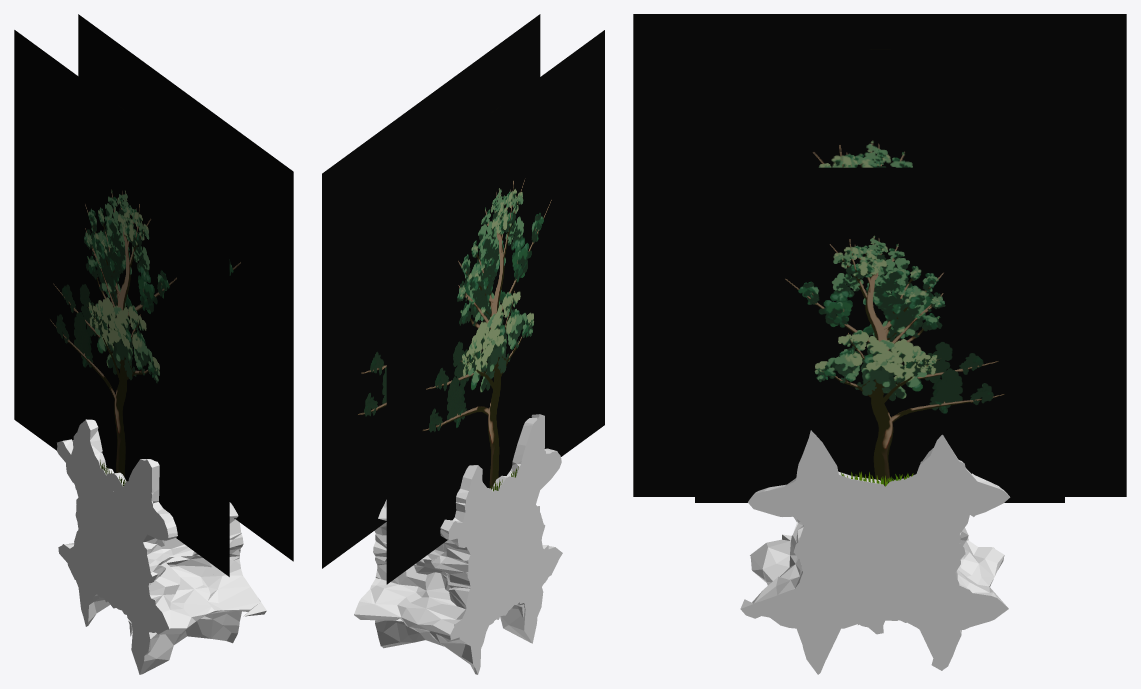
Rendered from palikka.fbx.
3 renders of one model, left to right at view 1: azimuth 30°, elevation 25°; view 2: azimuth 150°, elevation 25°; view 3: azimuth 270°, elevation 25°, orthographic. The views are drawn at different scales.
Parts seen in each view (by area): view 1: Background TreeLarge, ForegroundTreeLarge, TarmonKulmaBottomLeft, Palikka, TarmonKulmaTopLeft, TarmonReunaLeft, TarmonKulmaTopRight, TarmonKulmaBottomRight, TarmonReunaRight; view 2: Background TreeLarge, ForegroundTreeLarge, TarmonKulmaBottomRight, Palikka, TarmonReunaRight, TarmonKulmaTopLeft, TarmonKulmaTopRight, TarmonKulmaBottomLeft, TarmonReunaBottom, TarmonReunaLeft; view 3: ForegroundTreeSmall, ForegroundTreeLarge, Background TreeLarge, Palikka, TarmonKulmaBottomLeft, TarmonKulmaBottomRight, TarmonKulmaTopRight, TarmonKulmaTopLeft, TarmonReunaLeft, TarmonReunaBottom, TarmonReunaRight.
Boxes of the visible parts, left/top/right/bottom form: Background TreeLarge: left=14, top=30, right=229, bottom=576; ForegroundTreeLarge: left=78, top=14, right=293, bottom=561; TarmonKulmaBottomLeft: left=112, top=558, right=266, bottom=674; Palikka: left=86, top=474, right=175, bottom=604; TarmonKulmaTopLeft: left=104, top=459, right=238, bottom=568; TarmonReunaLeft: left=129, top=508, right=243, bottom=608; TarmonKulmaTopRight: left=56, top=419, right=113, bottom=529; TarmonKulmaBottomRight: left=58, top=515, right=116, bottom=626; TarmonReunaRight: left=75, top=469, right=98, bottom=569; Background TreeLarge: left=386, top=30, right=604, bottom=584; ForegroundTreeLarge: left=322, top=14, right=540, bottom=568; TarmonKulmaBottomRight: left=354, top=558, right=502, bottom=674; Palikka: left=478, top=477, right=532, bottom=614; TarmonReunaRight: left=373, top=515, right=490, bottom=616; TarmonKulmaTopLeft: left=492, top=414, right=561, bottom=540; TarmonKulmaTopRight: left=374, top=465, right=506, bottom=572; TarmonKulmaBottomLeft: left=500, top=528, right=562, bottom=643; TarmonReunaBottom: left=480, top=575, right=531, bottom=621; TarmonReunaLeft: left=523, top=476, right=545, bottom=574; ForegroundTreeSmall: left=695, top=167, right=1064, bottom=502; ForegroundTreeLarge: left=633, top=49, right=1126, bottom=496; Background TreeLarge: left=633, top=14, right=1126, bottom=49; Palikka: left=818, top=497, right=941, bottom=608; TarmonKulmaBottomLeft: left=740, top=521, right=882, bottom=674; TarmonKulmaBottomRight: left=874, top=527, right=1008, bottom=670; TarmonKulmaTopRight: left=876, top=434, right=1010, bottom=559; TarmonKulmaTopLeft: left=748, top=430, right=885, bottom=556; TarmonReunaLeft: left=793, top=497, right=841, bottom=608; TarmonReunaBottom: left=823, top=590, right=939, bottom=634; TarmonReunaRight: left=927, top=503, right=965, bottom=608.
Bounding box in the file's own units: 100 × 558 × 400.
